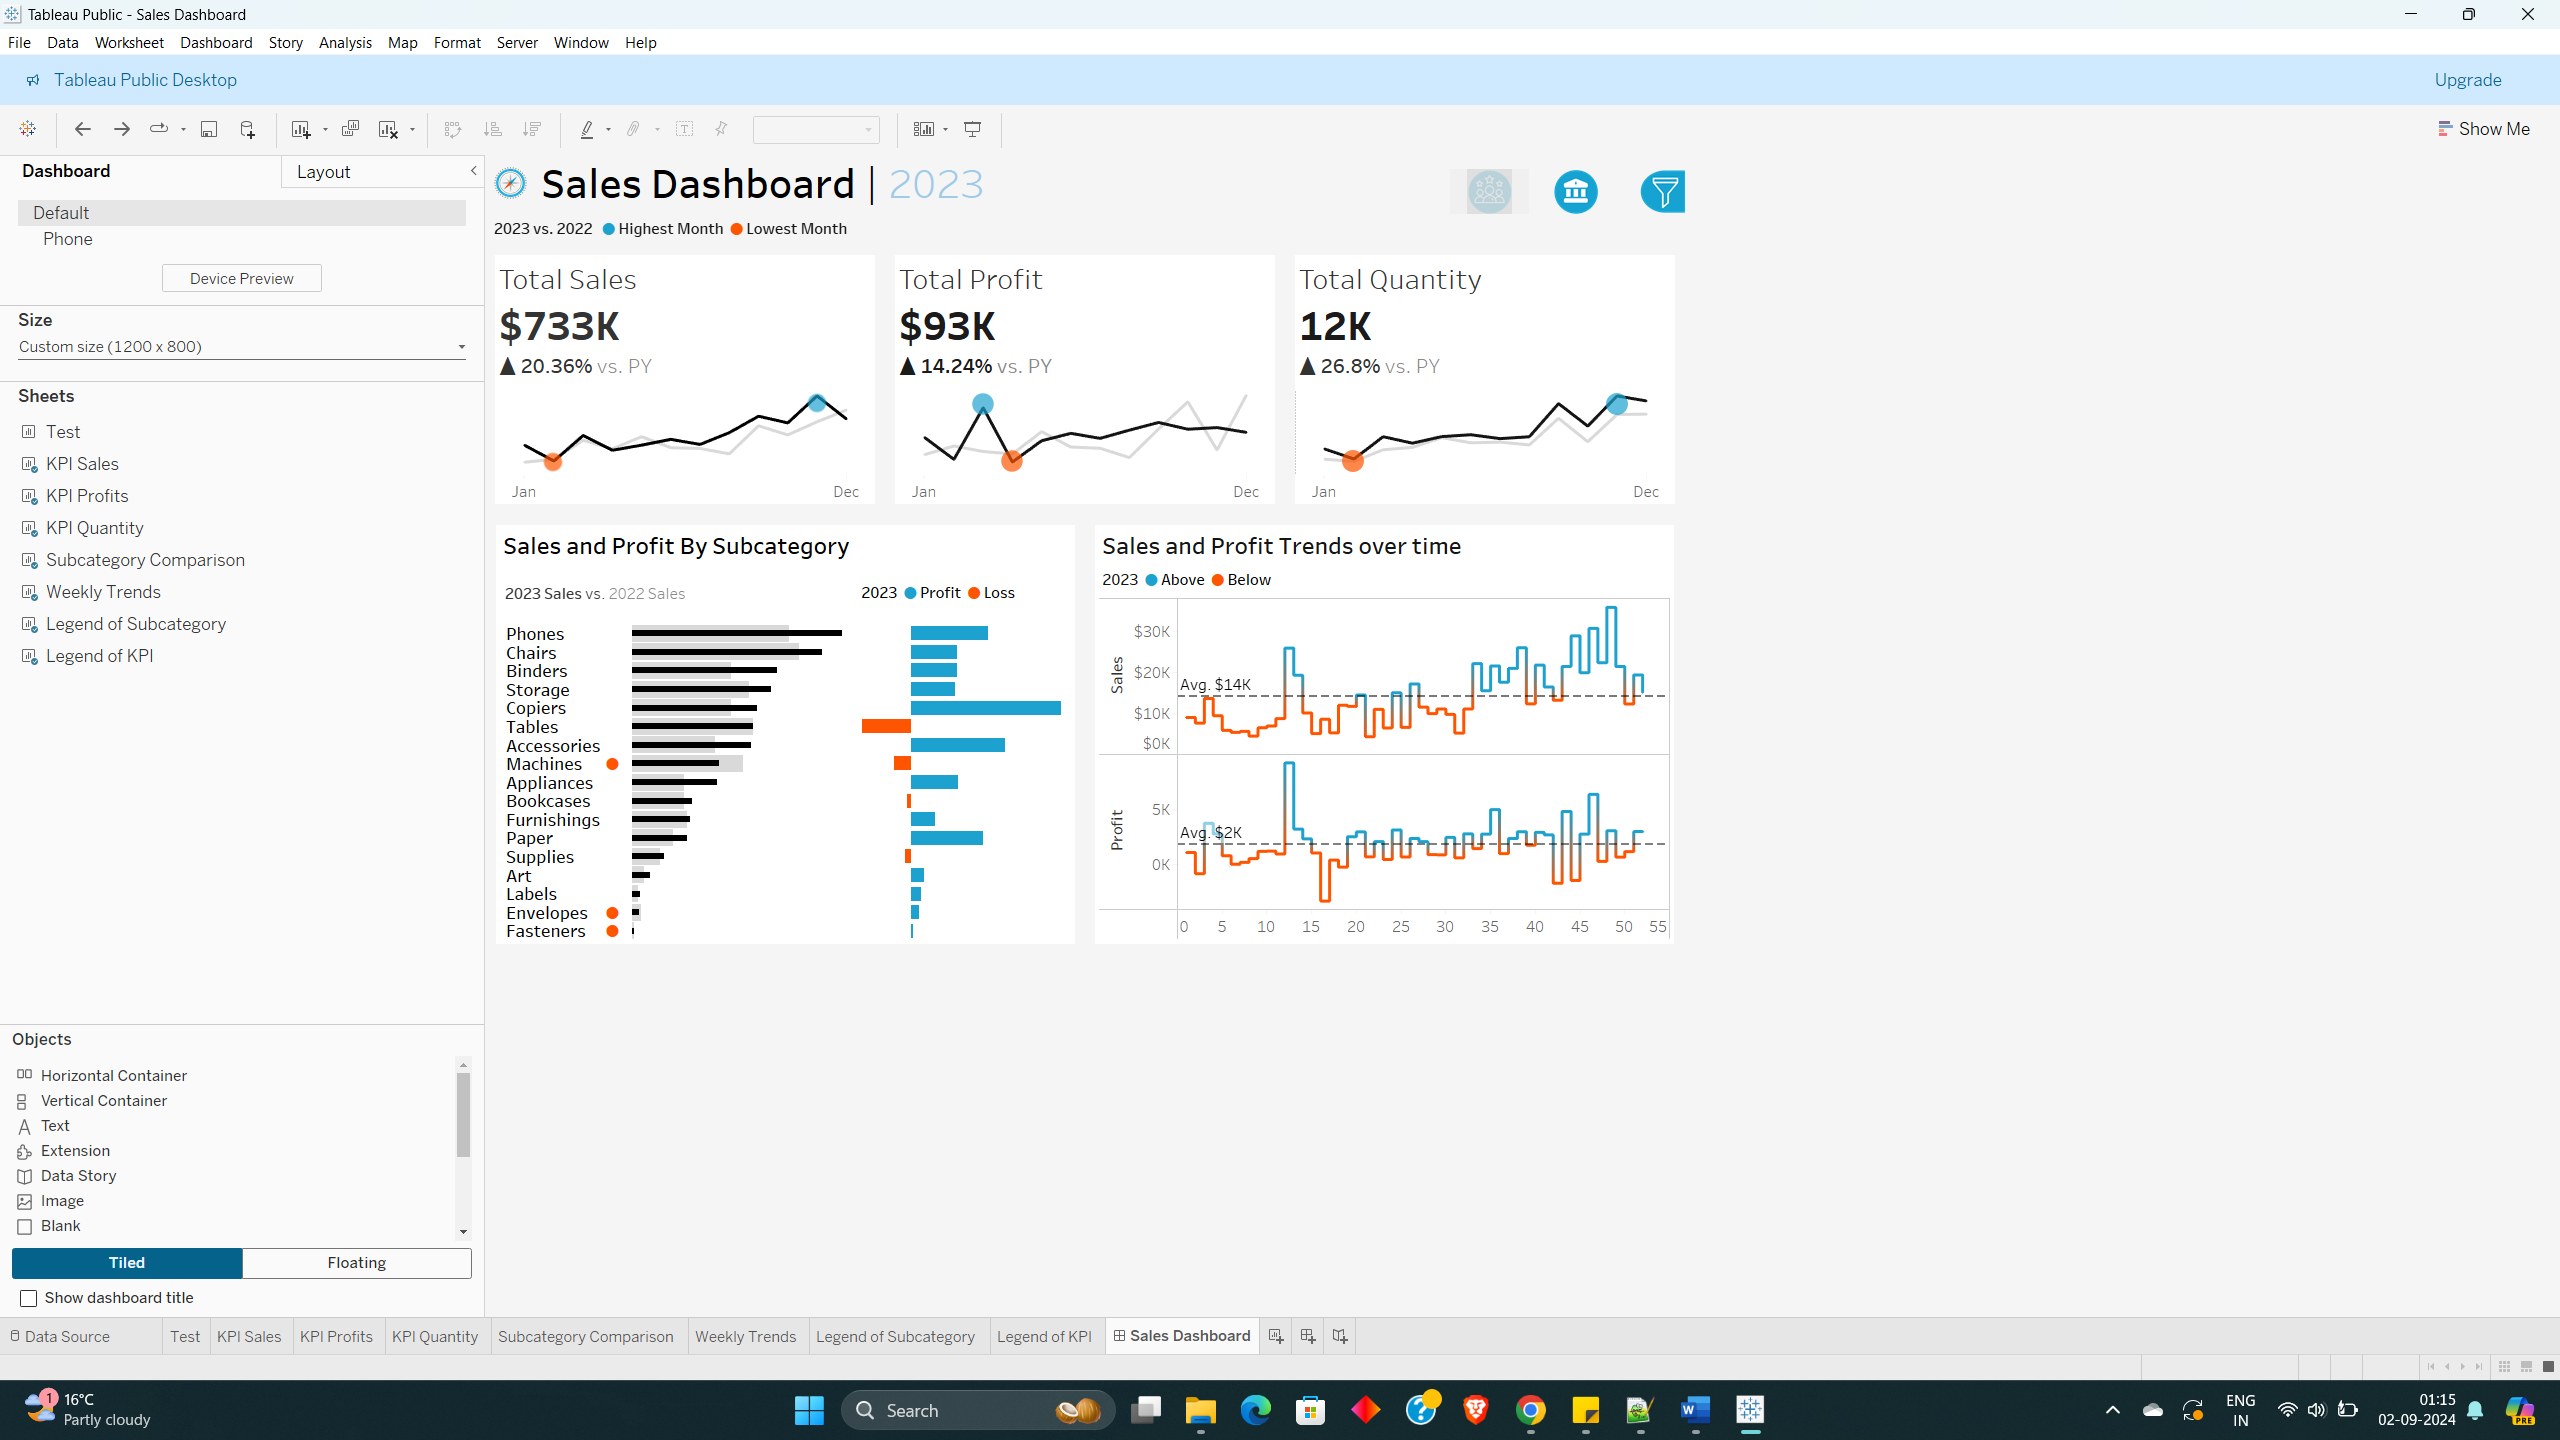

The dashboard page shown, as its layout file describes it:
{"tool":"tableau","page":{"name":"Sales Dashboard","canvas":[1200,800],"ordinal":0},"visuals":[{"type":"image","param":"E:/Education and working details/Data Analyst Job Role - Tablaue/Sales-Dashboard","box":[1,1,48,53]},{"type":"text","box":[49,1,756,53]},{"type":"dashboard-object","box":[961,10,87,53]},{"type":"dashboard-object","box":[1048,10,86,53]},{"type":"blank","box":[970,12,218,72]},{"type":"worksheet","title":"Legend of KPI","mark":"Automatic","box":[0,55,1200,35]},{"type":"text","box":[970,84,218,33]},{"type":"worksheet","title":"KPI Sales","mark":"Automatic","rows":["Calculation_2196912249849790468"],"cols":["Order Date"],"box":[0,90,400,269]},{"type":"worksheet","title":"KPI Profits","mark":"Automatic","rows":["Calculation_2196912249906024462"],"cols":["Order Date"],"box":[400,90,400,269]},{"type":"worksheet","title":"KPI Quantity","mark":"Automatic","rows":["Calculation_2196912250056056852"],"cols":["Order Date"],"box":[800,90,400,269]},{"type":"parameter","param":"[Parameters].[Parameter 1]","box":[970,117,218,56]},{"type":"blank","box":[970,173,218,32]},{"type":"text","box":[970,205,218,33]},{"type":"filter","title":"KPI Sales","param":"[federated.1yrry2m0xnvvl41a3rqys1g5nkax].[none:City:nk]","box":[970,238,218,61]},{"type":"filter","title":"KPI Sales","param":"[federated.1yrry2m0xnvvl41a3rqys1g5nkax].[none:Category:nk]","box":[970,299,218,61]},{"type":"blank","box":[970,360,218,32]},{"type":"text","box":[11,370,579,40]},{"type":"text","box":[610,370,579,40]},{"type":"text","box":[970,392,218,33]},{"type":"text","box":[610,410,579,29]},{"type":"worksheet","title":"Legend of Subcategory","mark":"Automatic","box":[12,411,356,53]},{"type":"text","box":[368,411,221,53]},{"type":"filter","title":"KPI Sales","param":"[federated.1yrry2m0xnvvl41a3rqys1g5nkax].[none:Region:nk]","box":[970,425,218,61]},{"type":"worksheet","title":"Weekly Trends","mark":"Automatic","rows":["Calculation_2196912249730834432","Calculation_2196912249899601931"],"cols":["Order Date"],"box":[610,439,579,350]},{"type":"worksheet","title":"Subcategory Comparison","mark":"Bar","rows":["Sub-Category","Calculation_2196912250128228375"],"cols":["CY Sales (copy)_2196912249732636673","Calculation_2196912249730834432","Calculation_2196912249899601931"],"box":[11,465,579,324]},{"type":"filter","title":"KPI Sales","param":"[federated.1yrry2m0xnvvl41a3rqys1g5nkax].[none:Sub-Category:nk]","box":[970,486,218,61]},{"type":"filter","title":"KPI Sales","param":"[federated.1yrry2m0xnvvl41a3rqys1g5nkax].[none:State:nk]","box":[970,547,218,61]}]}

Visuals, with their boxes on the page's 1200x800 design canvas (x1, y1, x2, y2). These are canvas units, not pixel positions in the 2560x1440 screenshot, which may show the page scaled, cropped or inside an application window:
image: region(1, 1, 49, 54)
text: region(49, 1, 805, 54)
dashboard-object: region(961, 10, 1048, 63)
dashboard-object: region(1048, 10, 1134, 63)
blank: region(970, 12, 1188, 84)
"Legend of KPI" worksheet: region(0, 55, 1200, 90)
text: region(970, 84, 1188, 117)
"KPI Sales" worksheet: region(0, 90, 400, 359)
"KPI Profits" worksheet: region(400, 90, 800, 359)
"KPI Quantity" worksheet: region(800, 90, 1200, 359)
parameter: region(970, 117, 1188, 173)
blank: region(970, 173, 1188, 205)
text: region(970, 205, 1188, 238)
"KPI Sales" filter: region(970, 238, 1188, 299)
"KPI Sales" filter: region(970, 299, 1188, 360)
blank: region(970, 360, 1188, 392)
text: region(11, 370, 590, 410)
text: region(610, 370, 1189, 410)
text: region(970, 392, 1188, 425)
text: region(610, 410, 1189, 439)
"Legend of Subcategory" worksheet: region(12, 411, 368, 464)
text: region(368, 411, 589, 464)
"KPI Sales" filter: region(970, 425, 1188, 486)
"Weekly Trends" worksheet: region(610, 439, 1189, 789)
"Subcategory Comparison" worksheet (Bar marks): region(11, 465, 590, 789)
"KPI Sales" filter: region(970, 486, 1188, 547)
"KPI Sales" filter: region(970, 547, 1188, 608)
